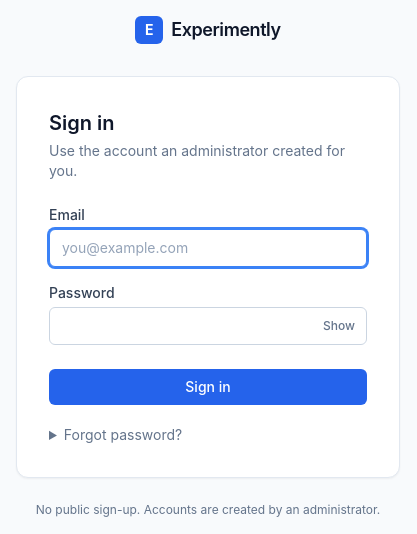
Test: LoginPage › disables the button and marks inputs read-only while submitting
The width and height of the screenshot is (417, 534).
In the field labelled "Email": [208, 248] box [49,229,367,267], type "admin@demo.com"
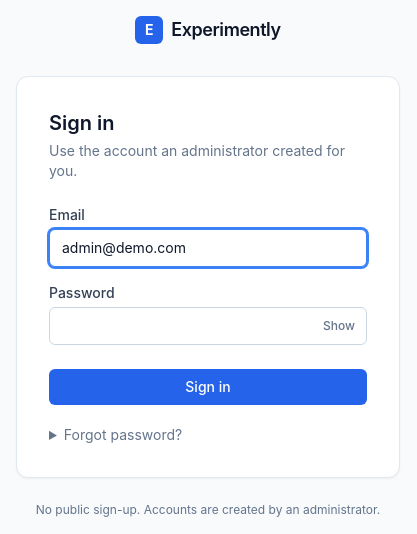
In the password field labelled "Password": [208, 326] box [49,307,367,345], type "Demo1234!"
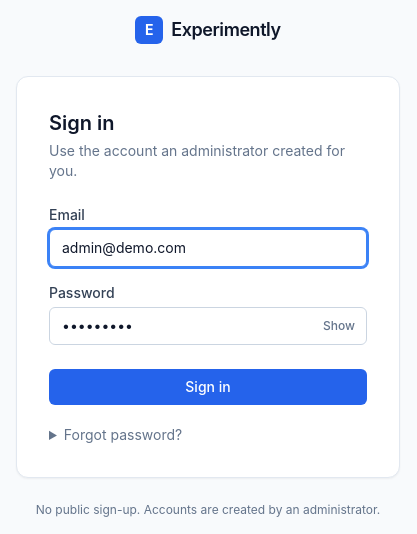
Click the button "Sign in": [208, 387] box [49,369,367,405]
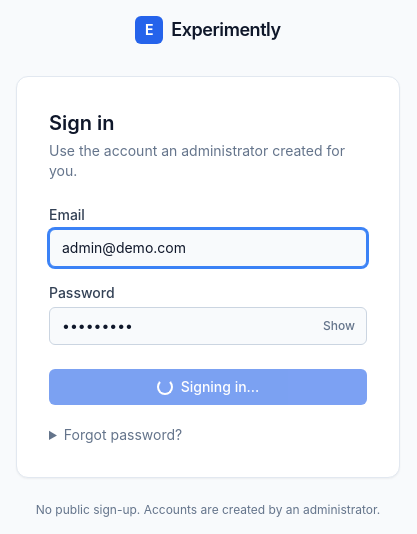
Result: the button "Signing in…" is disabled at [49,369,367,405]
